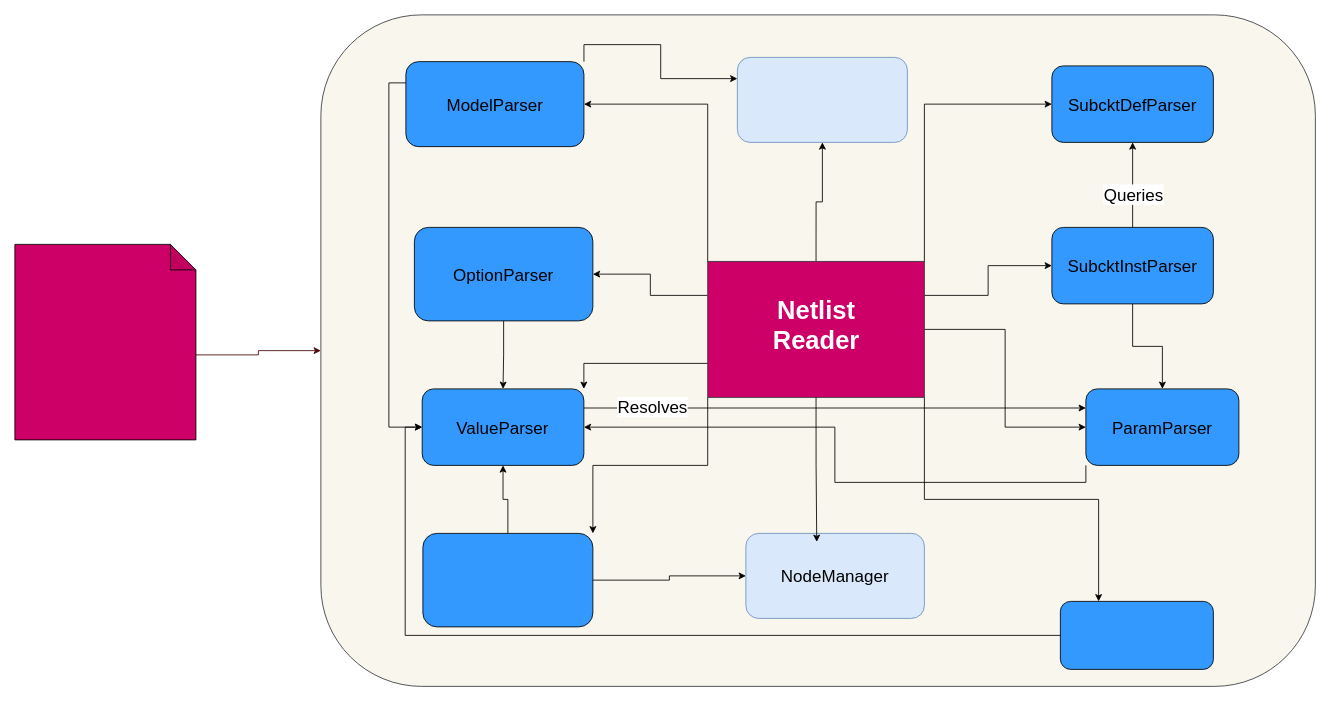
This 1330x701 diagram has some shape labels left out. Each missing label, with the centre of its shape:
CommandParser: [1136,635]
CompParser: [507,580]
ModelDatabase: [822,99]
Netlist (Input): [105,342]
